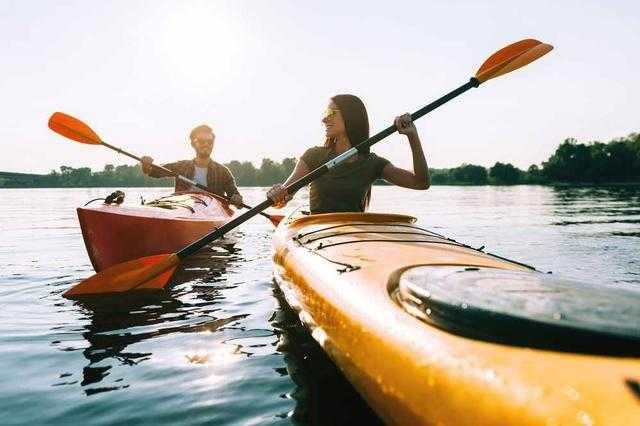kayak: (270, 210, 638, 420), (75, 189, 243, 274)
